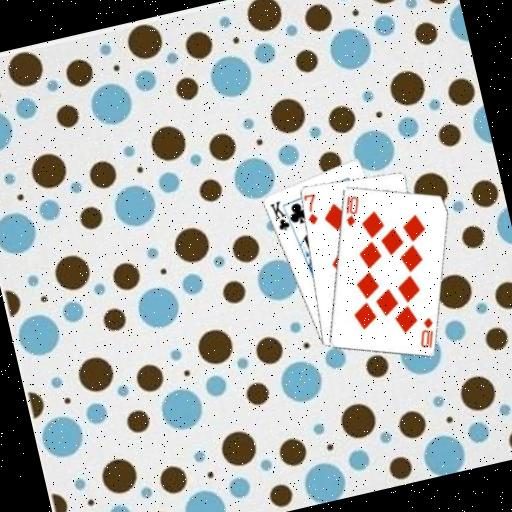10D: (337, 190, 366, 229), (411, 313, 440, 352)
7D: (299, 190, 323, 228)
KC: (266, 195, 297, 236)
